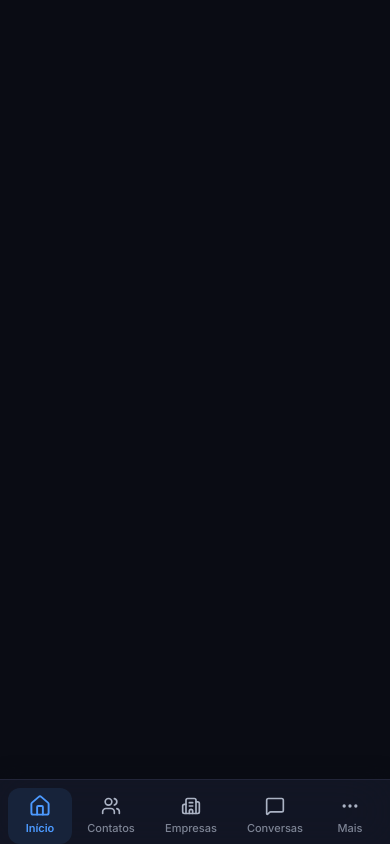
MobileBottomNav › esconde a rota gateada quando o papel nao tem a permissao
Click the button "Mais".
click(350, 816)  # box left=318, top=788, right=382, bottom=843
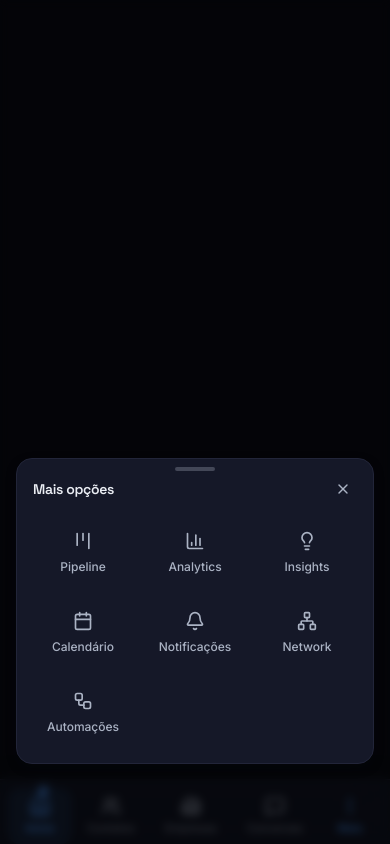
Now the text "Analytics" is shown, box left=168, top=559, right=222, bottom=575
